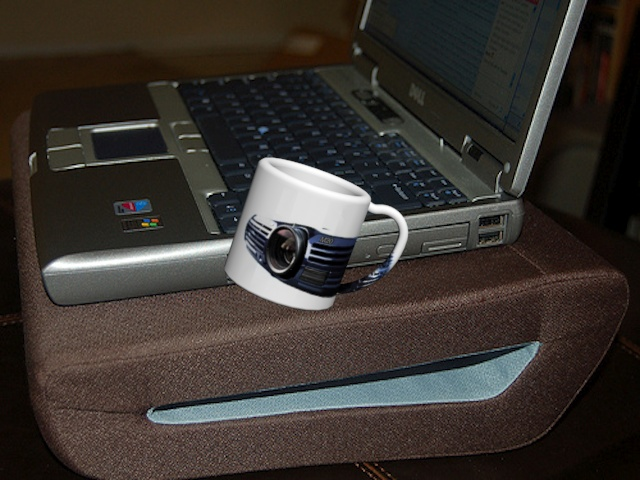mug: (225, 153, 416, 312)
